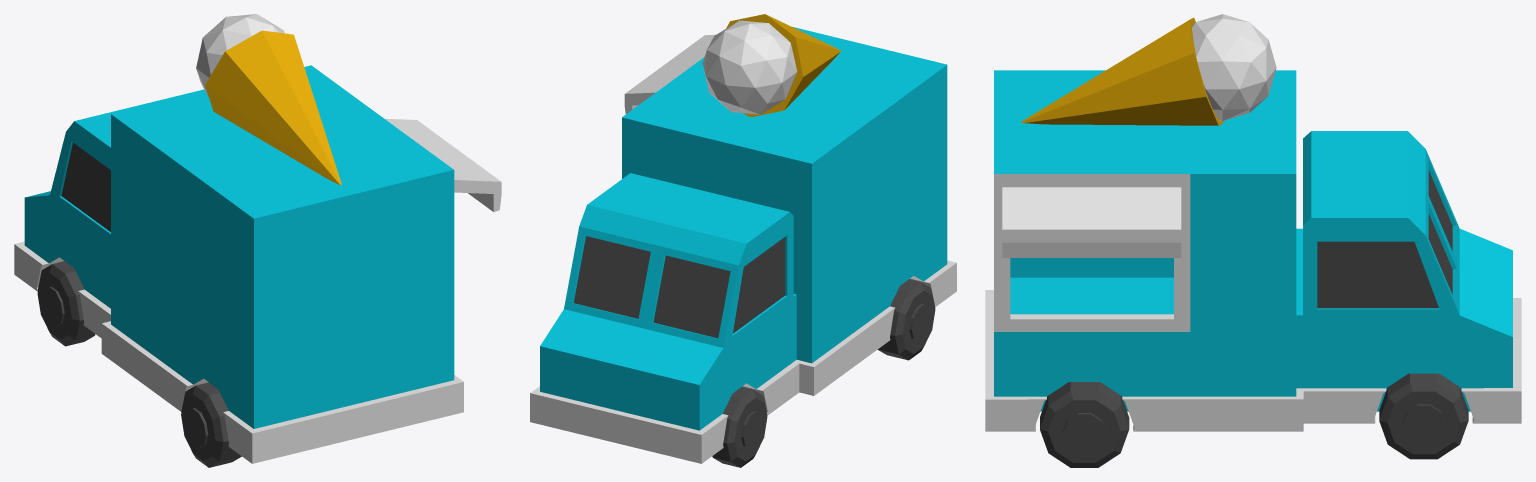
File: IcecreamTruckMesh.fbx
3 views of the same model, side by side, from view 1: azimuth 30°, elevation 25°; view 2: azimuth 150°, elevation 25°; view 3: azimuth 270°, elevation 25° (orthographic). The views are drawn at different scales.
Parts seen in each view (by area): view 1: IcecreamTruckMesh; view 2: IcecreamTruckMesh; view 3: IcecreamTruckMesh.
Part boxes in pixels (x1,y1,x2,y2): IcecreamTruckMesh: [14, 14, 501, 467]; IcecreamTruckMesh: [530, 14, 956, 467]; IcecreamTruckMesh: [985, 14, 1521, 467].
Size of the model in its own units: 345 by 459 by 567.
